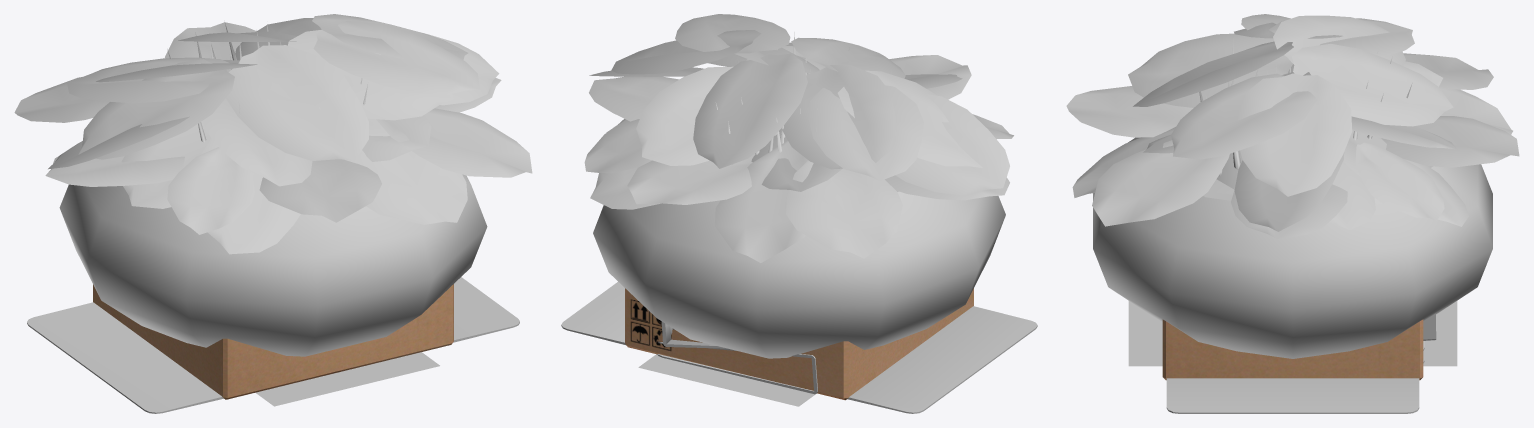
Rendered from 1bProps01.fbx.
The picture shows the model from 3 angles, left to right: view 1: azimuth 30°, elevation 25°; view 2: azimuth 150°, elevation 25°; view 3: azimuth 270°, elevation 25°; orthographic projection. The views are drawn at different scales.
Visible parts, largest first — view 1: o_Plant, o_FastCopyOpen, o_DenverBox, o_WarRoomMenu; view 2: o_Plant, o_FastCopyOpen, o_DenverBox, o_WarRoomMenu, o_PressKit; view 3: o_Plant, o_FastCopyOpen, o_DenverBox, o_WarRoomMenu.
Boxes of the visible parts, x1,y1,x2,y2 form: o_Plant: (14, 14, 532, 356); o_FastCopyOpen: (27, 277, 519, 413); o_DenverBox: (93, 284, 453, 399); o_WarRoomMenu: (255, 352, 439, 406); o_Plant: (584, 14, 1013, 358); o_FastCopyOpen: (561, 282, 1037, 413); o_DenverBox: (625, 288, 973, 400); o_WarRoomMenu: (638, 354, 815, 406); o_PressKit: (657, 321, 817, 394); o_Plant: (1066, 14, 1519, 358); o_FastCopyOpen: (1166, 378, 1419, 413); o_DenverBox: (1162, 319, 1423, 380); o_WarRoomMenu: (1128, 301, 1457, 366).
Size of the model in its own units: 0.7562 by 0.4638 by 0.6891.
